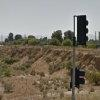Traffic light: (63, 8, 93, 49)
